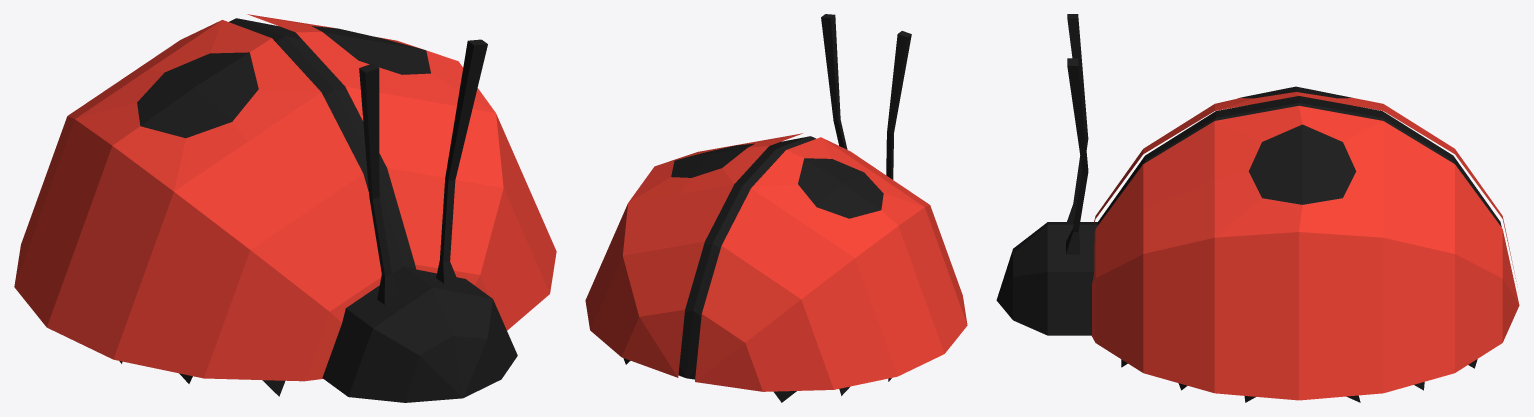
File: Ladybug.glb
The picture shows the model from 3 angles, left to right: view 1: azimuth 30°, elevation 25°; view 2: azimuth 150°, elevation 25°; view 3: azimuth 270°, elevation 25°; orthographic projection. The views are drawn at different scales.
Visible parts, largest first — view 1: Ladybug_01_Sphere.002; view 2: Ladybug_01_Sphere.002; view 3: Ladybug_01_Sphere.002.
Part boxes in pixels (x1,y1,x2,y2): Ladybug_01_Sphere.002: (14, 14, 556, 402); Ladybug_01_Sphere.002: (585, 14, 967, 402); Ladybug_01_Sphere.002: (996, 14, 1519, 402).
Bounding box in the file's own units: 10.04 × 6.76 × 11.18.
